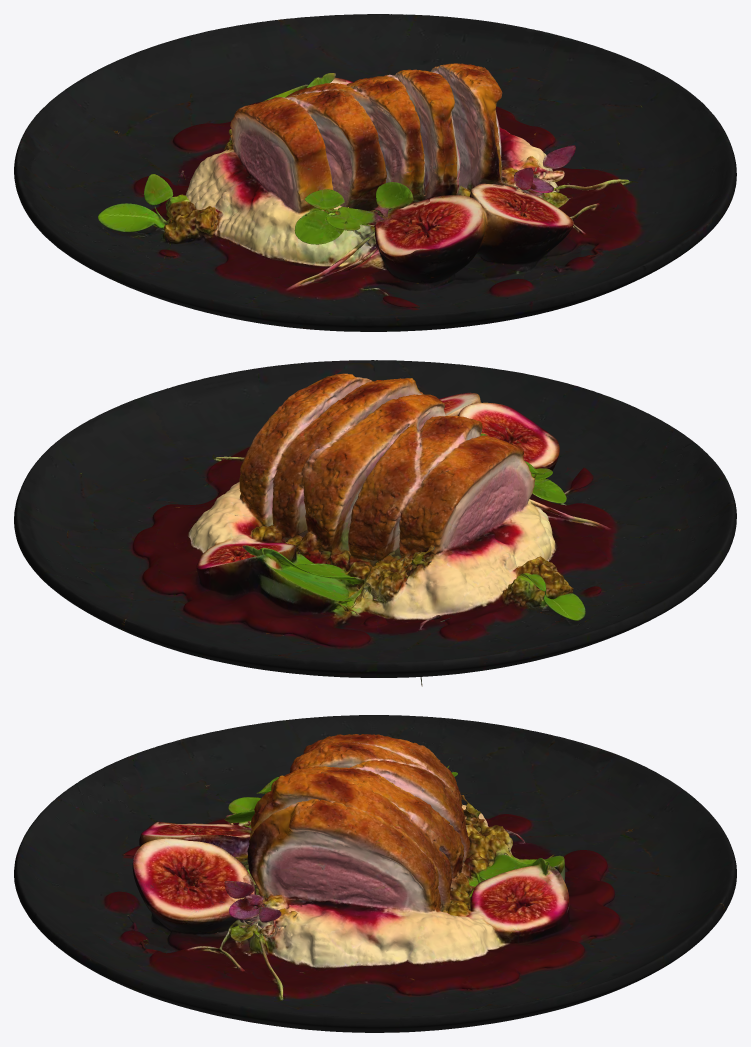
Rendered from canette-aux-figues-meshopt-d54f097e.glb.
The picture shows the model from 3 angles, top to bottom: view 1: azimuth 30°, elevation 25°; view 2: azimuth 150°, elevation 25°; view 3: azimuth 270°, elevation 25°; orthographic projection.
Bounding box in the file's own units: 1.9 × 0.5067 × 1.9.
Materials: 1 (1 with a texture image).
